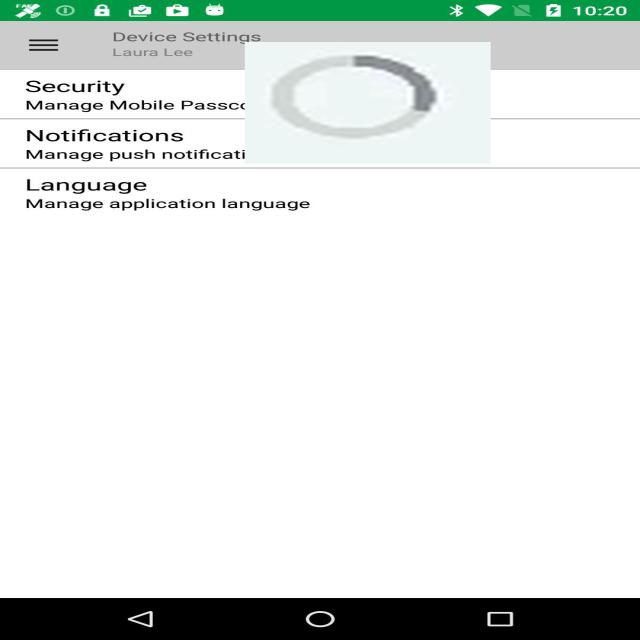misdirection: (244, 42, 490, 164)
